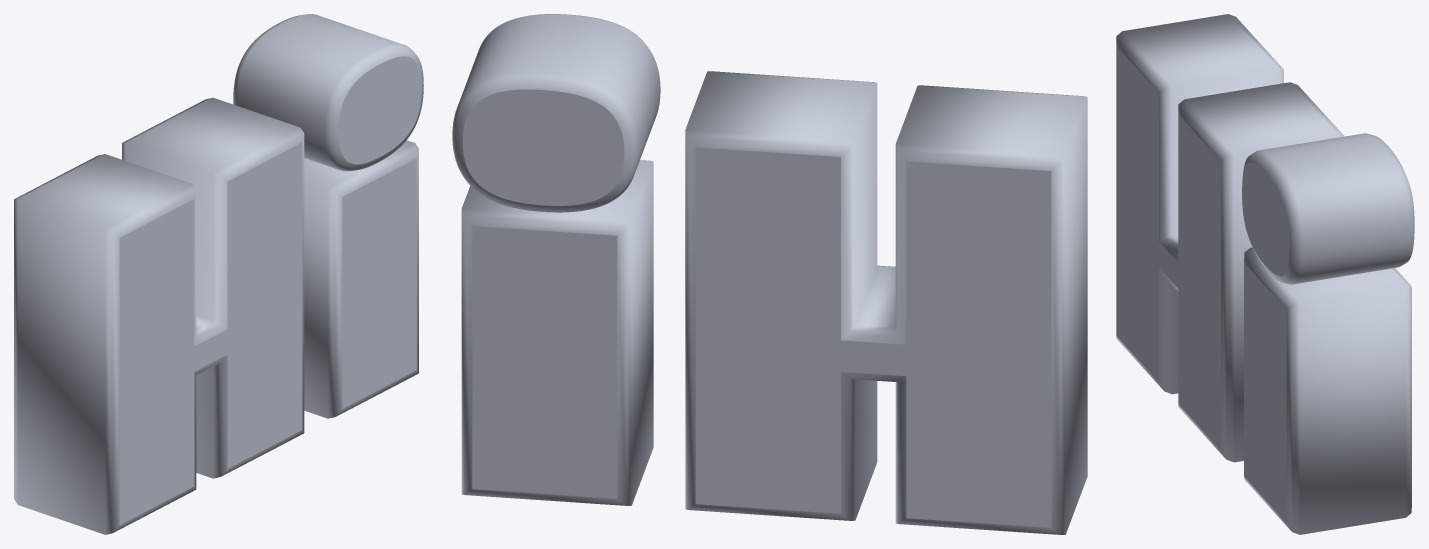
3 views of the same model, side by side, from view 1: azimuth 30°, elevation 25°; view 2: azimuth 150°, elevation 25°; view 3: azimuth 270°, elevation 25° (orthographic). The views are drawn at different scales.
Parts seen in each view (by area): view 1: Text; view 2: Text; view 3: Text.
Part boxes in pixels (box(x1,y1,x2,y2)): Text: box(14, 14, 423, 534); Text: box(452, 14, 1087, 534); Text: box(1116, 14, 1414, 534).
Bounding box in the file's own units: 4.5 × 3.36 × 2.63.
